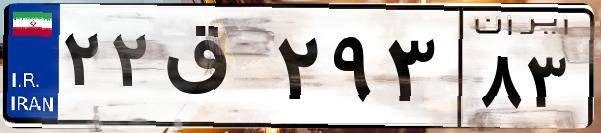2: (270, 28, 330, 110), (57, 26, 110, 100), (110, 28, 158, 98)
3: (385, 28, 445, 110), (525, 38, 570, 115)
8: (475, 38, 525, 113)
9: (330, 28, 385, 110)
ق: (158, 20, 270, 120)
